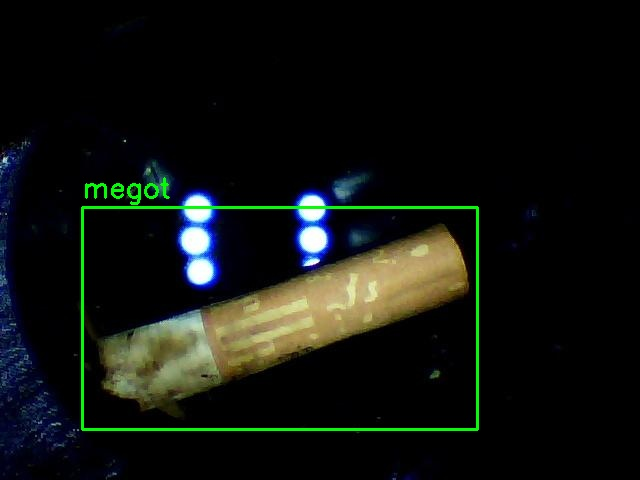megot: (82, 207, 477, 429)
